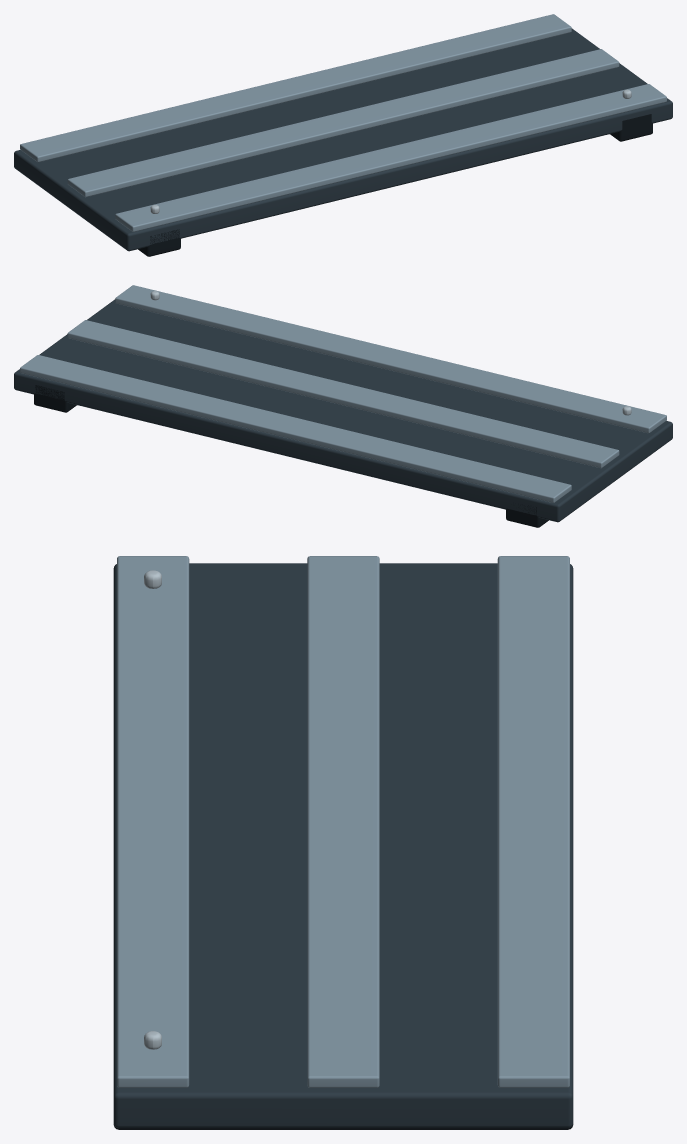
Rendered from queue-pallet.glb.
3 views of the same model, one above another, from view 1: azimuth 30°, elevation 25°; view 2: azimuth 150°, elevation 25°; view 3: azimuth 270°, elevation 25° (orthographic). The views are drawn at different scales.
Parts seen in each view (by area): view 1: queue_pallet_Enamel_Graphite, queue_pallet_Brushed_Aluminium, queue_pallet_Rubber_Seal; view 2: queue_pallet_Enamel_Graphite, queue_pallet_Brushed_Aluminium, queue_pallet_Rubber_Seal; view 3: queue_pallet_Enamel_Graphite, queue_pallet_Brushed_Aluminium, queue_pallet_Rubber_Seal.
Boxes of the visible parts, box(x1,y1,x2,y2) form: queue_pallet_Enamel_Graphite: box(14, 28, 672, 251); queue_pallet_Brushed_Aluminium: box(20, 14, 666, 231); queue_pallet_Rubber_Seal: box(138, 114, 652, 256); queue_pallet_Enamel_Graphite: box(14, 299, 672, 522); queue_pallet_Brushed_Aluminium: box(20, 285, 666, 502); queue_pallet_Rubber_Seal: box(34, 385, 548, 527); queue_pallet_Enamel_Graphite: box(113, 563, 573, 1128); queue_pallet_Brushed_Aluminium: box(117, 556, 569, 1087); queue_pallet_Rubber_Seal: box(113, 1124, 573, 1129).
Size of the model in its own units: 1.92 by 0.1375 by 0.7.
